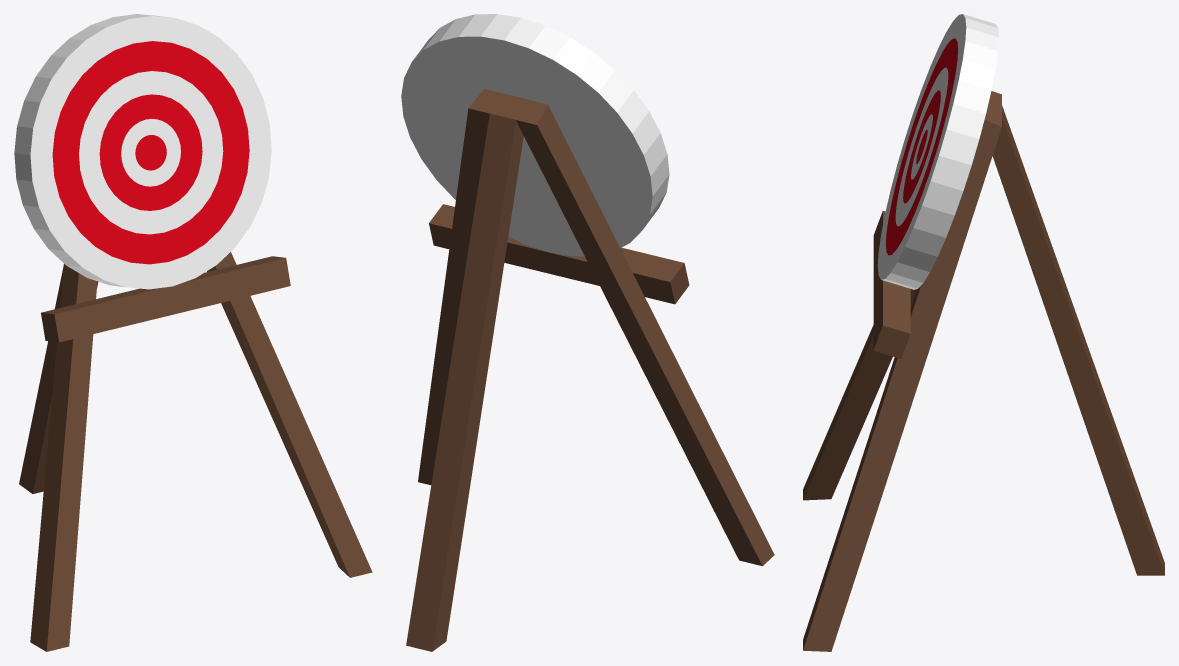
File: tall_ground_target.fbx
The picture shows the model from 3 angles, left to right: view 1: azimuth 30°, elevation 25°; view 2: azimuth 150°, elevation 25°; view 3: azimuth 270°, elevation 25°; orthographic projection. The views are drawn at different scales.
Visible parts, largest first — view 1: Target, SupportLegs, FrontBar, RearLeg; view 2: Target, SupportLegs, RearLeg, FrontBar; view 3: SupportLegs, Target, RearLeg, FrontBar.
Boxes of the visible parts, x1,y1,x2,y2 form: Target: [14, 14, 271, 289]; SupportLegs: [30, 252, 372, 651]; FrontBar: [41, 256, 290, 342]; RearLeg: [19, 266, 98, 493]; Target: [401, 14, 669, 256]; SupportLegs: [418, 89, 774, 565]; RearLeg: [406, 93, 528, 651]; FrontBar: [429, 204, 689, 304]; SupportLegs: [803, 91, 1001, 651]; Target: [877, 14, 998, 289]; RearLeg: [987, 100, 1164, 575]; FrontBar: [873, 211, 910, 358].
Bounding box in the file's own units: 274 × 256 × 424.
